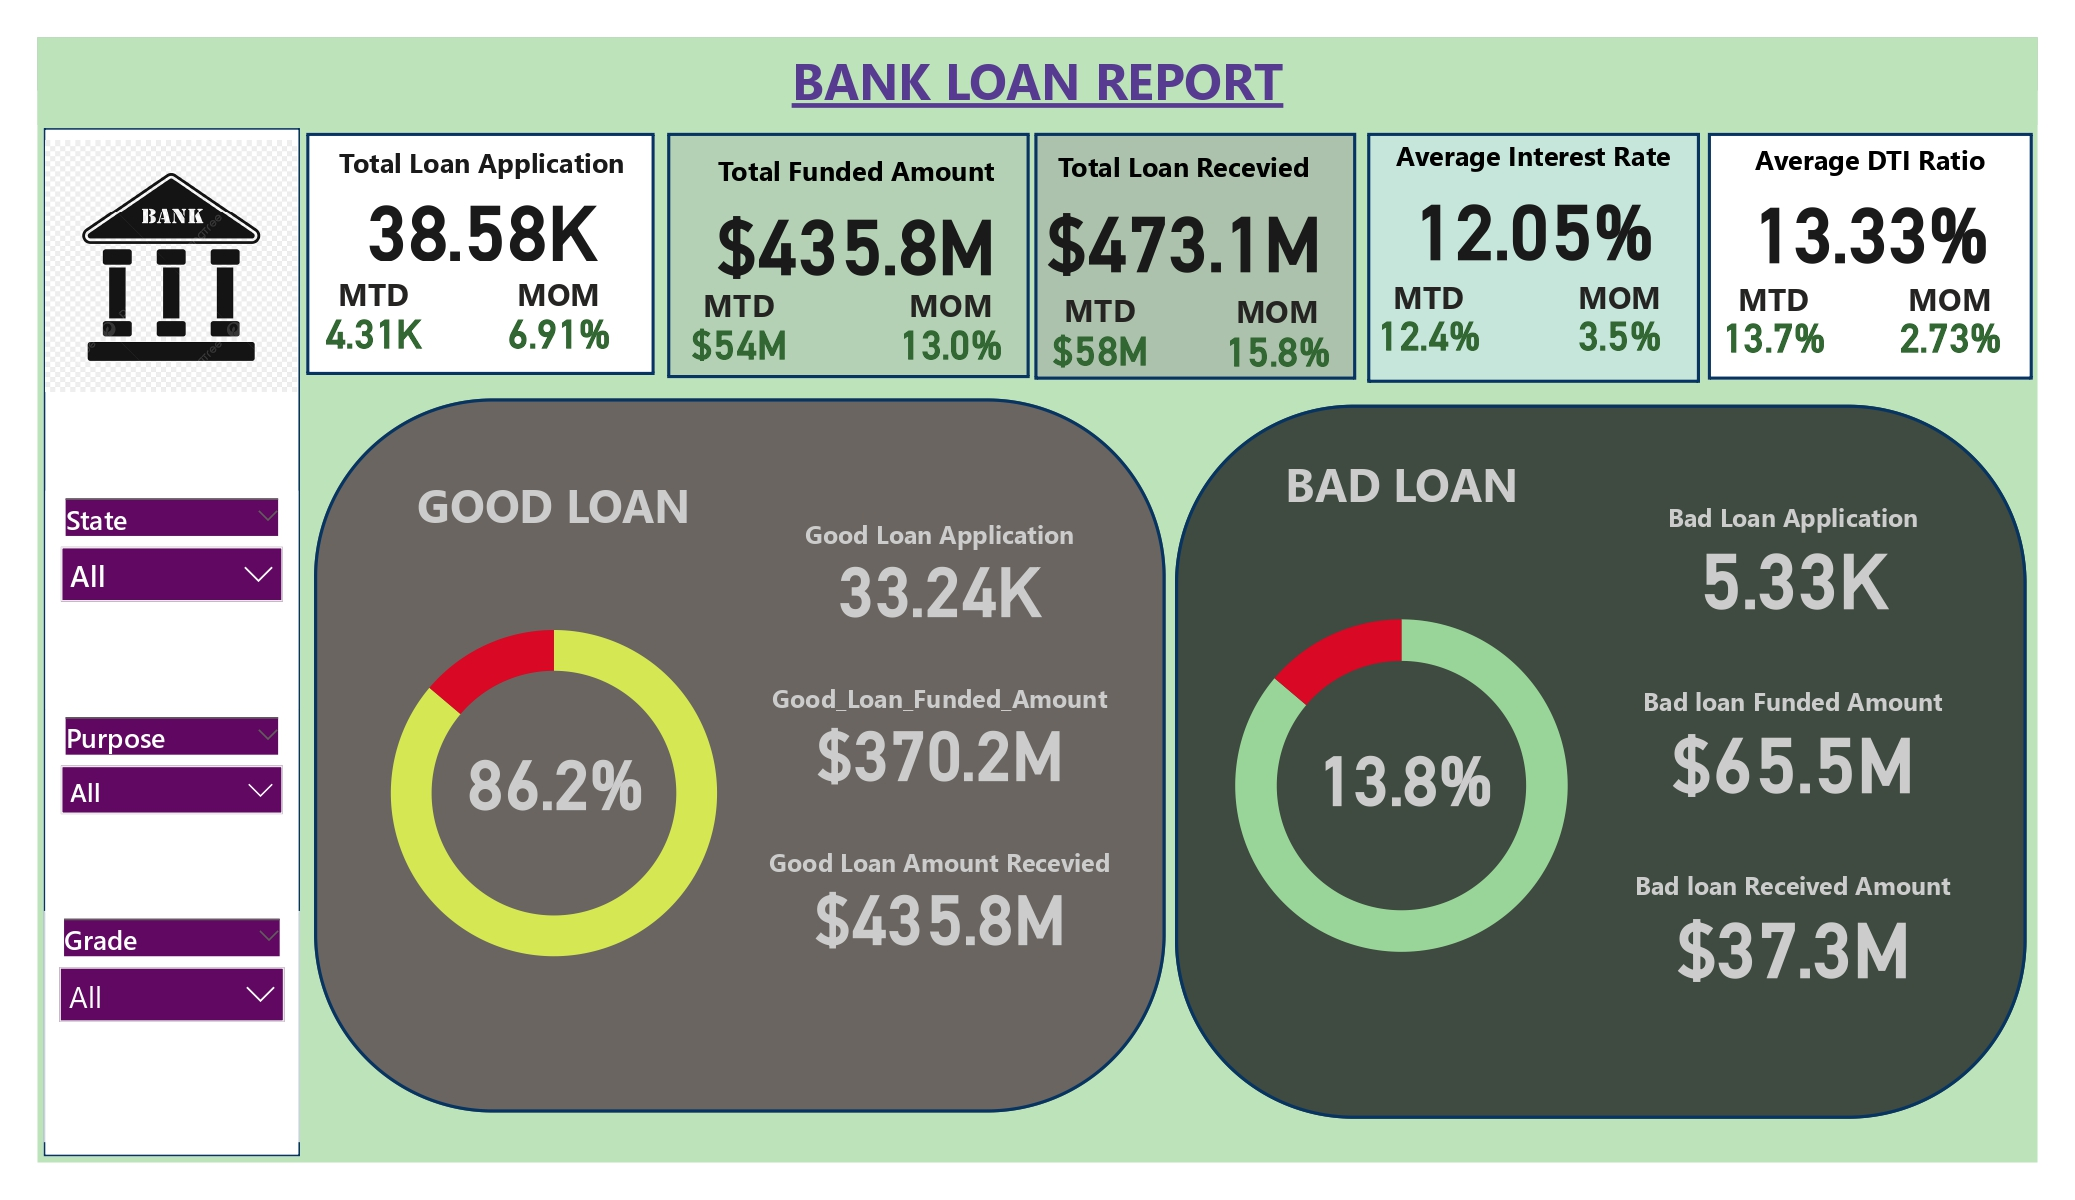

What the dashboard file says about the page in this screenshot:
{"tool":"powerbi","page":{"name":"Summary","canvas":[1280,720],"ordinal":0},"visuals":[{"type":"textbox","box":[0,0,1280.3,55.5],"z":0},{"type":"shape","box":[4.3,58,163.8,658],"z":0,"group":"g10"},{"type":"shape","box":[171.6,60.9,223,155.2],"z":0,"group":"g3"},{"type":"group","id":"g1","title":"Group 4","box":[844.6,60.9,219.3,159.5],"z":0,"group":"g5"},{"type":"shape","box":[176.6,230.7,545,457],"z":0,"group":"g7"},{"type":"cardVisual","fields":{"Data":["bank_loan_data.Good Loan Application","bank_loan_data.Good_Loan_Funded_Amount","bank_loan_data.Good Loan Amount Recevied"]},"box":[455.3,295.8,245.9,321.5],"z":0,"group":"g14"},{"type":"group","id":"g2","title":"Group 18","box":[0,34.8,1273.1,681.1],"z":1000},{"type":"group","id":"g3","title":"Group 1","box":[169.6,60.9,225,155.2],"z":1000,"group":"g8"},{"type":"shape","box":[402.5,60.9,232.1,156.7],"z":1000,"group":"g6"},{"type":"shape","box":[727.7,234.6,545.4,457.1],"z":1000,"group":"g13"},{"type":"group","id":"g4","title":"Group 9","box":[195.1,278.4,271.1,370.4],"z":1000,"group":"g14"},{"type":"group","id":"g5","title":"Group 19","box":[169.6,60.9,1105.8,159.4],"z":2000},{"type":"group","id":"g6","title":"Group 2","box":[398.9,60.9,237.8,156.7],"z":2000,"group":"g8"},{"type":"shape","box":[638.1,60.9,205.6,158.1],"z":2000,"group":"g11"},{"type":"group","id":"g7","title":"Group 11","box":[176.6,230.7,545,457],"z":2000,"group":"g2"},{"type":"group","id":"g8","title":"Group 16","box":[169.6,60.9,1106.5,158.1],"z":3000,"group":"g5"},{"type":"shape","box":[850.9,60.9,213,159.5],"z":3000,"group":"g1"},{"type":"group","id":"g9","title":"Group 5","box":[1068.2,60.9,207.9,158.1],"z":3000,"group":"g8"},{"type":"group","id":"g10","title":"Group 17","box":[0,34.8,1273.1,681.1],"z":4000,"group":"g2"},{"type":"group","id":"g11","title":"Group 3","box":[621,60.9,225,158.1],"z":4000,"group":"g8"},{"type":"shape","box":[1068.2,60.9,207.8,158.4],"z":4000,"group":"g9"},{"type":"card","title":"Total Loan Application","fields":{"Values":["bank_loan_data.total_loan_application"]},"box":[183.2,67.6,201.2,80.8],"z":5000,"group":"g3"},{"type":"donutChart","title":"GOOD LOAN","fields":{"Y":["bank_loan_data.total_loan_application"],"Category":["bank_loan_data.Good Vs Bad Loans"]},"box":[195.1,278.4,271.1,370.4],"z":5000,"group":"g19"},{"type":"card","title":"Total Funded Amount","fields":{"Values":["bank_loan_data.Total_fund_amount"]},"box":[409.8,72.6,228,88.4],"z":6000,"group":"g6"},{"type":"slicer","fields":{"Values":["bank_loan_data.address_state"]},"box":[5.1,289.5,162.6,139.9],"z":6000,"group":"g15"},{"type":"card","fields":{"Values":["bank_loan_data.Good_Loan %"]},"box":[255.1,424.2,152.8,97.8],"z":6000,"group":"g19"},{"type":"card","title":"Total Loan Recevied","fields":{"Values":["bank_loan_data.Total_Amount_Recevied"]},"box":[621,70.3,225,90.7],"z":7000,"group":"g11"},{"type":"donutChart","title":"BAD LOAN","fields":{"Y":["bank_loan_data.total_loan_application"],"Category":["bank_loan_data.Good Vs Bad Loans"]},"box":[735.4,264.4,275.9,388.8],"z":7000,"group":"g18"},{"type":"slicer","fields":{"Values":["bank_loan_data.grade"]},"box":[4.2,558.4,163.8,148.5],"z":7000,"group":"g15"},{"type":"group","id":"g12","title":"Group 8","box":[735.4,264.4,507,388.8],"z":7001,"group":"g17"},{"type":"group","id":"g13","title":"Group 13","box":[0,34.8,1273.1,657],"z":8000,"group":"g10"},{"type":"card","title":"Average Interest Rate","fields":{"Values":["bank_loan_data.Average_interst_rate"]},"box":[854.3,63.2,205.7,88.3],"z":8000,"group":"g1"},{"type":"group","id":"g14","title":"Group 6","box":[195.1,278.4,506.1,370.4],"z":8000,"group":"g7"},{"type":"card","fields":{"Values":["bank_loan_data.Bad_Loan%"]},"box":[789.5,372.5,171.5,196.9],"z":8000,"group":"g18"},{"type":"slicer","fields":{"Values":["bank_loan_data.purpose"]},"box":[5.1,429.4,162.6,129.9],"z":8000,"group":"g15"},{"type":"group","id":"g15","title":"Group 15","box":[4.2,289.5,163.8,417.4],"z":8001,"group":"g16"},{"type":"card","title":"Average DTI Ratio","fields":{"Values":["bank_loan_data.Average_DTI_Ratio"]},"box":[1077.1,65.4,190,87.5],"z":9000,"group":"g9"},{"type":"group","id":"g16","title":"Group 14","box":[4.2,289.5,163.8,417.4],"z":9000,"group":"g10"},{"type":"image","box":[0,34.8,171,223.2],"z":9001,"group":"g13"},{"type":"card","title":"MTD","fields":{"Values":["bank_loan_data.MTD"]},"box":[169.6,149.8,90.1,56.3],"z":10000,"group":"g3"},{"type":"group","id":"g17","title":"Group 7","box":[735.4,264.4,507,388.8],"z":10000,"group":"g13"},{"type":"cardVisual","fields":{"Data":["bank_loan_data.Bad Loan Application","bank_loan_data.Bad loan Funded Amount","bank_loan_data.Bad loan Received Amount"]},"box":[1005.3,284.6,237.1,360.9],"z":10000,"group":"g18"},{"type":"card","title":"MTD","fields":{"Values":["bank_loan_data.MTD_Funded_Amount"]},"box":[398.9,156.6,99.7,55.5],"z":11000,"group":"g6"},{"type":"group","id":"g18","title":"Group 12","box":[735.4,264.4,507,388.8],"z":11001,"group":"g12"},{"type":"group","id":"g19","title":"Group 10","box":[195.1,278.4,271.1,370.4],"z":11001,"group":"g4"},{"type":"card","title":"MTD","fields":{"Values":["bank_loan_data.MTD Loan_recevied"]},"box":[630.1,160.1,100,56.4],"z":12000,"group":"g11"},{"type":"card","title":"MTD","fields":{"Values":["bank_loan_data.MTD_Average_Rate"]},"box":[844.6,151.5,90.7,54.8],"z":13000,"group":"g1"},{"type":"card","title":"MTD","fields":{"Values":["bank_loan_data.MTD_DTI_Ratio"]},"box":[1068.2,152.9,83.8,54.3],"z":14000,"group":"g9"},{"type":"card","title":"MOM","fields":{"Values":["bank_loan_data.MOM_Loan_Application"]},"box":[288,149.8,90.1,56.3],"z":15000,"group":"g3"},{"type":"card","title":"MOM","fields":{"Values":["bank_loan_data.MOM_Total_Funded_Amount"]},"box":[534.2,156.6,101.1,55.5],"z":16000,"group":"g6"},{"type":"card","title":"MOM","fields":{"Values":["bank_loan_data.MOM_Total_loan_recevied"]},"box":[744.1,161,99.3,56.3],"z":17000,"group":"g11"},{"type":"card","title":"MOM","fields":{"Values":["bank_loan_data.MOM_Average_Interest_Rate"]},"box":[966.8,151.5,90.7,54.8],"z":18000,"group":"g1"},{"type":"card","title":"MOM","fields":{"Values":["bank_loan_data.MOM_DTI_Ratio"]},"box":[1181.1,152.9,83.8,54.3],"z":19000,"group":"g9"}]}

Visuals, with their boxes on the page's 1280x720 design canvas (x1, y1, x2, y2). These are canvas units, not pixel positions in the 2075x1200 screenshot, which may show the page scaled, cropped or inside an application window:
textbox: x1=0, y1=0, x2=1280, y2=56
shape: x1=4, y1=58, x2=168, y2=716
shape: x1=172, y1=61, x2=395, y2=216
"Group 4" group: x1=845, y1=61, x2=1064, y2=220
shape: x1=177, y1=231, x2=722, y2=688
cardVisual - bank_loan_data.Good Loan Application x bank_loan_data.Good_Loan_Funded_Amount: x1=455, y1=296, x2=701, y2=617
"Group 18" group: x1=0, y1=35, x2=1273, y2=716
"Group 1" group: x1=170, y1=61, x2=395, y2=216
shape: x1=402, y1=61, x2=635, y2=218
shape: x1=728, y1=235, x2=1273, y2=692
"Group 9" group: x1=195, y1=278, x2=466, y2=649
"Group 19" group: x1=170, y1=61, x2=1275, y2=220
"Group 2" group: x1=399, y1=61, x2=637, y2=218
shape: x1=638, y1=61, x2=844, y2=219
"Group 11" group: x1=177, y1=231, x2=722, y2=688
"Group 16" group: x1=170, y1=61, x2=1276, y2=219
shape: x1=851, y1=61, x2=1064, y2=220
"Group 5" group: x1=1068, y1=61, x2=1276, y2=219
"Group 17" group: x1=0, y1=35, x2=1273, y2=716
"Group 3" group: x1=621, y1=61, x2=846, y2=219
shape: x1=1068, y1=61, x2=1276, y2=219
"Total Loan Application" card: x1=183, y1=68, x2=384, y2=148
"GOOD LOAN" donutChart: x1=195, y1=278, x2=466, y2=649
"Total Funded Amount" card: x1=410, y1=73, x2=638, y2=161
slicer - bank_loan_data.address_state: x1=5, y1=290, x2=168, y2=429
card - bank_loan_data.Good_Loan %: x1=255, y1=424, x2=408, y2=522
"Total Loan Recevied" card: x1=621, y1=70, x2=846, y2=161
"BAD LOAN" donutChart: x1=735, y1=264, x2=1011, y2=653
slicer - bank_loan_data.grade: x1=4, y1=558, x2=168, y2=707
"Group 8" group: x1=735, y1=264, x2=1242, y2=653
"Group 13" group: x1=0, y1=35, x2=1273, y2=692
"Average Interest Rate" card: x1=854, y1=63, x2=1060, y2=152
"Group 6" group: x1=195, y1=278, x2=701, y2=649
card - bank_loan_data.Bad_Loan%: x1=790, y1=372, x2=961, y2=569
slicer - bank_loan_data.purpose: x1=5, y1=429, x2=168, y2=559
"Group 15" group: x1=4, y1=290, x2=168, y2=707
"Average DTI Ratio" card: x1=1077, y1=65, x2=1267, y2=153
"Group 14" group: x1=4, y1=290, x2=168, y2=707
image: x1=0, y1=35, x2=171, y2=258
"MTD" card: x1=170, y1=150, x2=260, y2=206
"Group 7" group: x1=735, y1=264, x2=1242, y2=653
cardVisual - bank_loan_data.Bad Loan Application x bank_loan_data.Bad loan Funded Amount: x1=1005, y1=285, x2=1242, y2=646
"MTD" card: x1=399, y1=157, x2=499, y2=212
"Group 12" group: x1=735, y1=264, x2=1242, y2=653
"Group 10" group: x1=195, y1=278, x2=466, y2=649
"MTD" card: x1=630, y1=160, x2=730, y2=216
"MTD" card: x1=845, y1=152, x2=935, y2=206
"MTD" card: x1=1068, y1=153, x2=1152, y2=207
"MOM" card: x1=288, y1=150, x2=378, y2=206
"MOM" card: x1=534, y1=157, x2=635, y2=212
"MOM" card: x1=744, y1=161, x2=843, y2=217
"MOM" card: x1=967, y1=152, x2=1058, y2=206
"MOM" card: x1=1181, y1=153, x2=1265, y2=207
